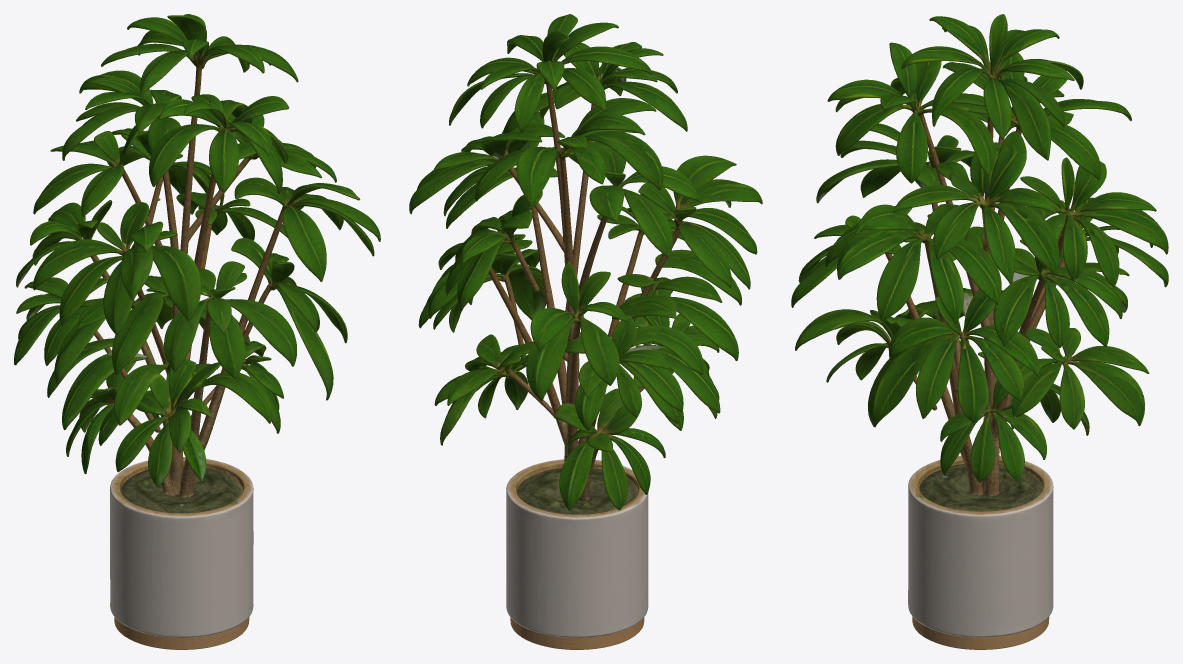
The model's file is schefflera.glb.
The picture shows the model from 3 angles, left to right: view 1: azimuth 30°, elevation 25°; view 2: azimuth 150°, elevation 25°; view 3: azimuth 270°, elevation 25°; orthographic projection. The views are drawn at different scales.
Parts seen in each view (by area): view 1: tripo_node_95e92b74-40f9-4ac6-b2cf-cd56c43613fd; view 2: tripo_node_95e92b74-40f9-4ac6-b2cf-cd56c43613fd; view 3: tripo_node_95e92b74-40f9-4ac6-b2cf-cd56c43613fd.
Part boxes in pixels (x1,y1,x2,y2): tripo_node_95e92b74-40f9-4ac6-b2cf-cd56c43613fd: (14, 14, 380, 649); tripo_node_95e92b74-40f9-4ac6-b2cf-cd56c43613fd: (409, 14, 762, 649); tripo_node_95e92b74-40f9-4ac6-b2cf-cd56c43613fd: (791, 14, 1168, 649).
Size of the model in its own units: 0.5131 by 0.9789 by 0.5516.
1 material, 1 textured.
